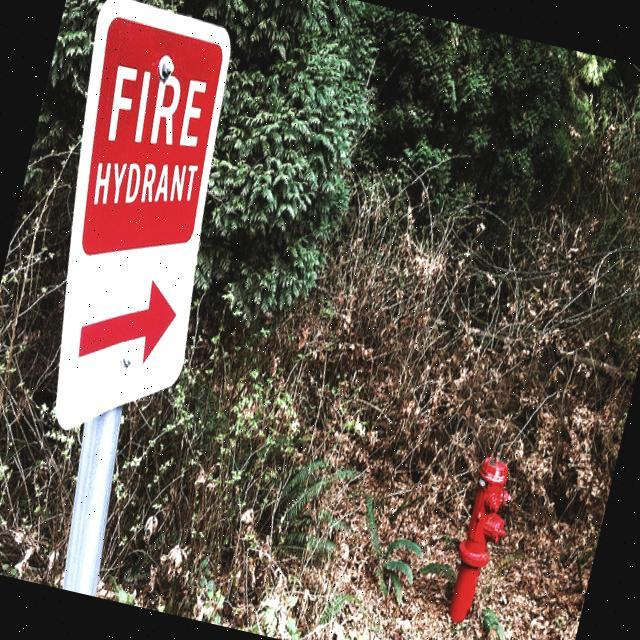fire_hydrant: (440, 452, 522, 630)
